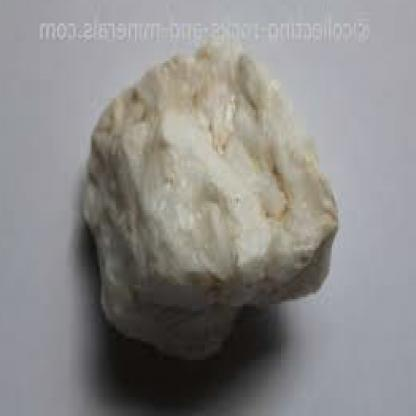Metamorphic_Quartize: (81, 40, 343, 369)
